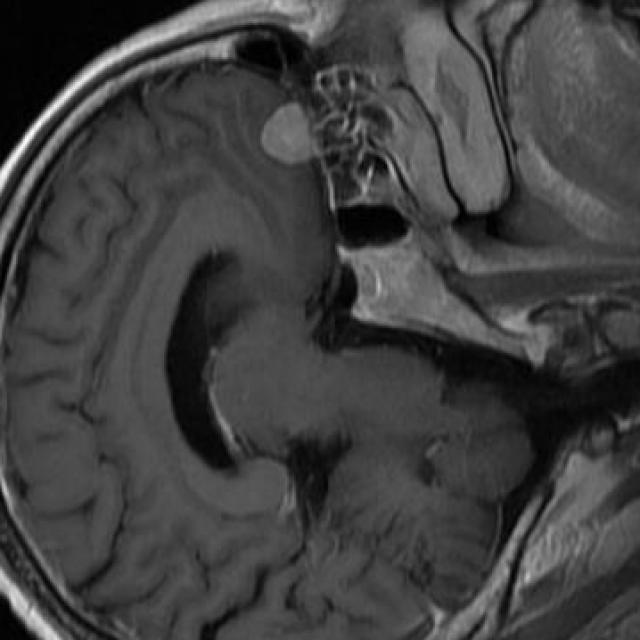meningioma: (258, 103, 312, 164)
